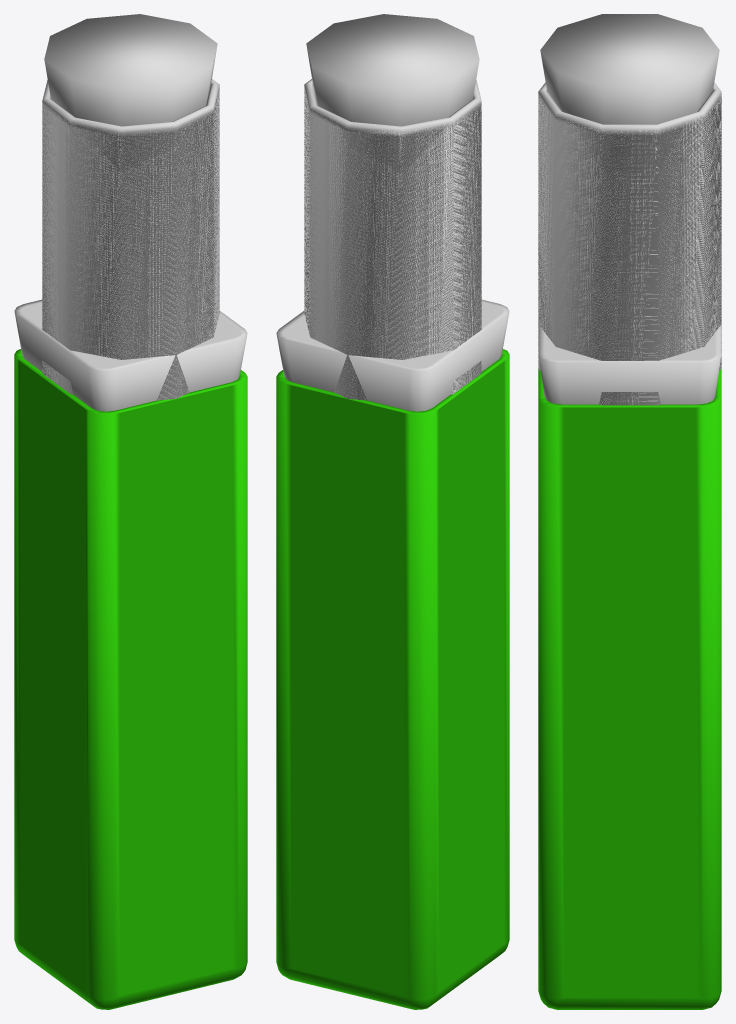
The model's file is TestTube_Liquid.fbx.
3 views of the same model, side by side, from view 1: azimuth 30°, elevation 25°; view 2: azimuth 150°, elevation 25°; view 3: azimuth 270°, elevation 25° (orthographic).
Parts seen in each view (by area): view 1: Container, RContainer_singleface, RContainer, RPlug, Plug; view 2: Container, RContainer_singleface, RContainer, RPlug, Plug; view 3: Container, RContainer_singleface, RContainer, RPlug, Plug.
Boxes of the visible parts, <box> form: Container: <box>14,349,247,1009</box>; RContainer_singleface: <box>42,79,219,400</box>; RContainer: <box>42,85,219,400</box>; RPlug: <box>44,14,217,126</box>; Plug: <box>14,299,247,411</box>; Container: <box>276,349,509,1009</box>; RContainer_singleface: <box>304,79,481,400</box>; RContainer: <box>304,89,481,400</box>; RPlug: <box>306,14,479,126</box>; Plug: <box>276,299,509,411</box>; Container: <box>538,369,721,1009</box>; RContainer_singleface: <box>538,82,721,405</box>; RContainer: <box>538,92,721,404</box>; RPlug: <box>540,14,719,124</box>; Plug: <box>538,325,721,404</box>.
Bounding box in the file's own units: 3 × 16.75 × 3.
